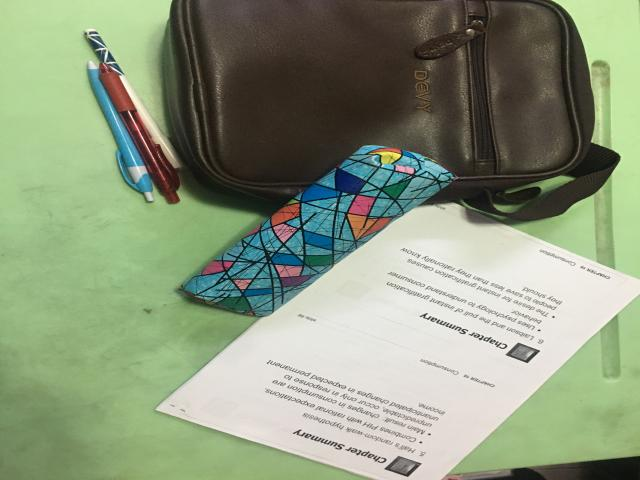Pen: (87, 30, 182, 205)
paper: (157, 204, 638, 480)
